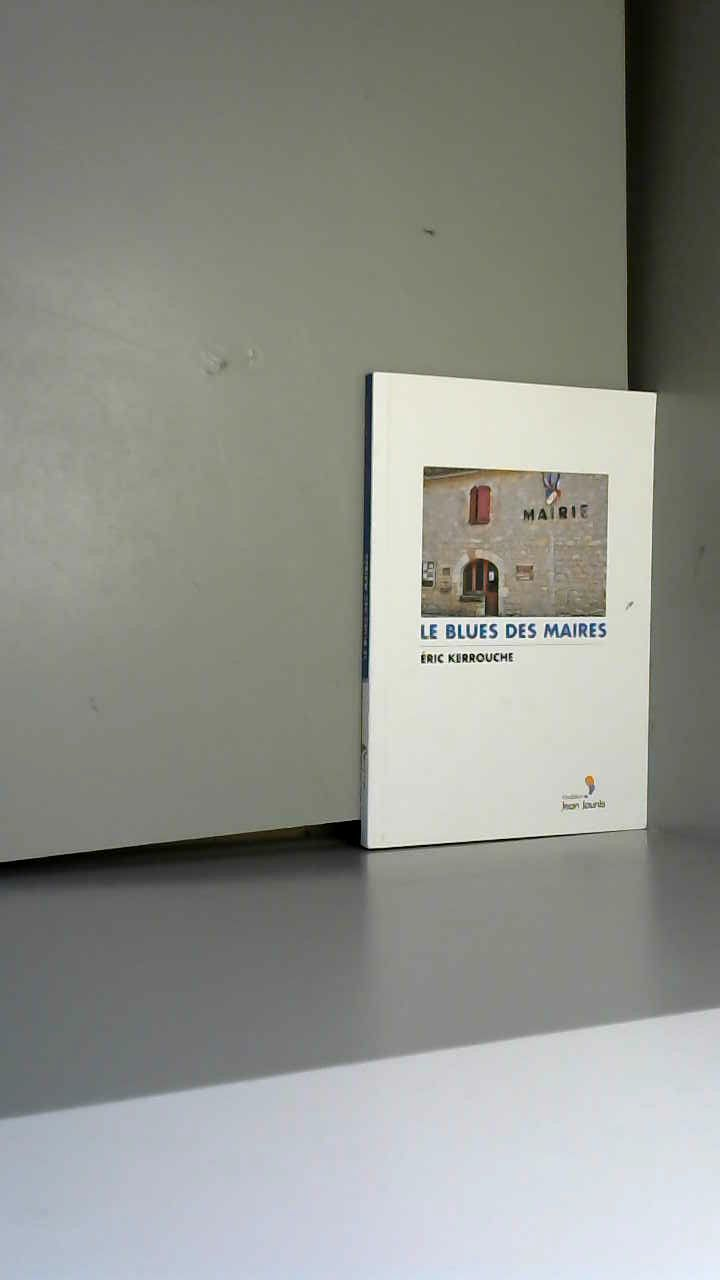book: (330, 340, 720, 921)
